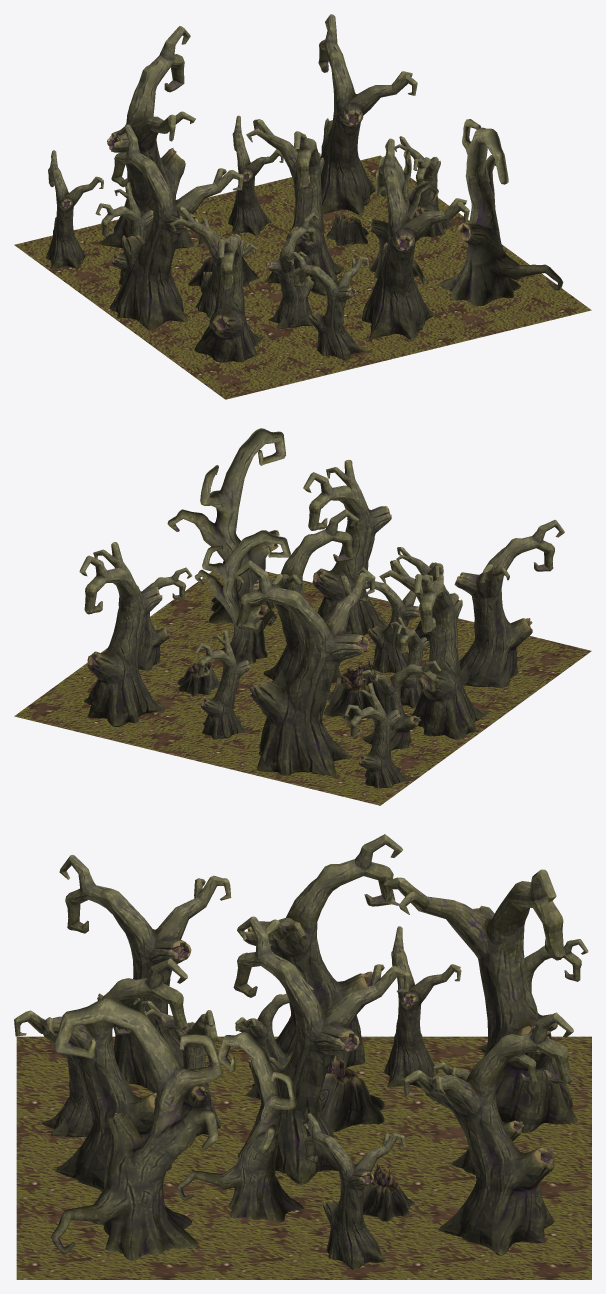
File: Edge_Diorama_12 BIG THICC TREES.fbx
The picture shows the model from 3 angles, top to bottom: view 1: azimuth 30°, elevation 25°; view 2: azimuth 150°, elevation 25°; view 3: azimuth 270°, elevation 25°; orthographic projection. The views are drawn at different scales.
Parts seen in each view (by area): view 1: Floor036; view 2: Floor036; view 3: Floor036.
Boxes of the visible parts, x1,y1,x2,y2 form: Floor036: (14,14,591,399); Floor036: (14,428,591,805); Floor036: (14,834,591,1279).
Bounding box in the file's own units: 450 × 245 × 452.
